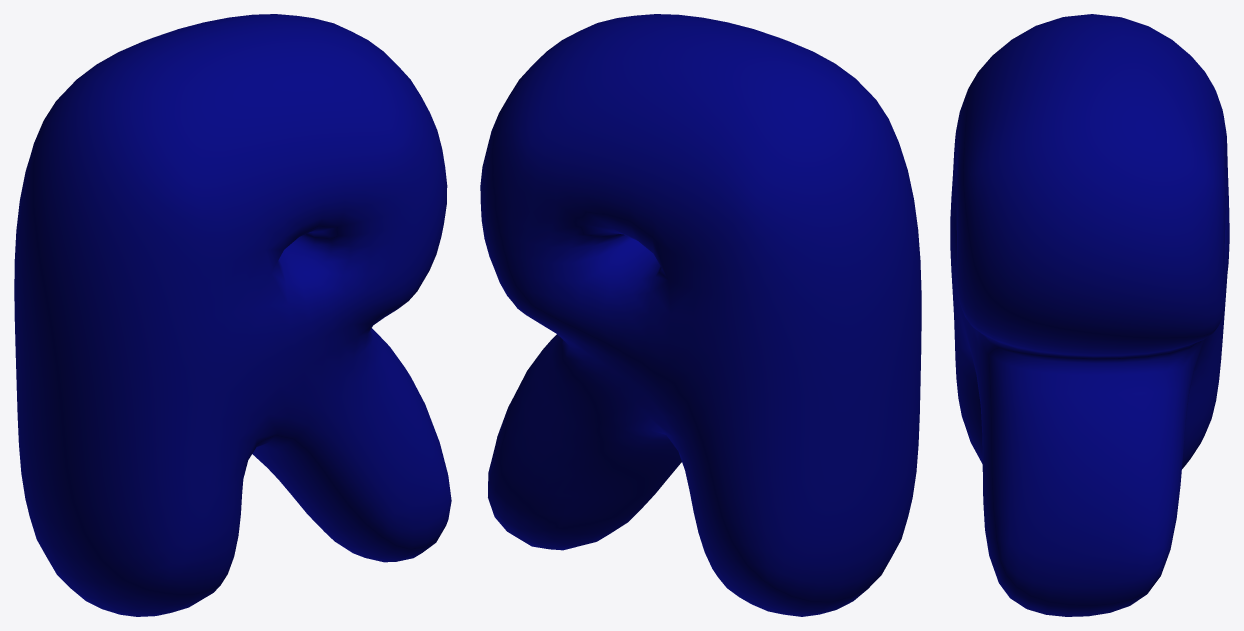
The picture shows the model from 3 angles, left to right: view 1: azimuth 30°, elevation 25°; view 2: azimuth 150°, elevation 25°; view 3: azimuth 270°, elevation 25°; orthographic projection. The views are drawn at different scales.
Visible parts, largest first — view 1: Object_38; view 2: Object_38; view 3: Object_38.
Part boxes in pixels (<box>): Object_38: <box>14,14,451,616</box>; Object_38: <box>480,14,921,616</box>; Object_38: <box>950,14,1229,616</box>.
Bounding box in the file's own units: 71.38 × 96.36 × 48.17.
